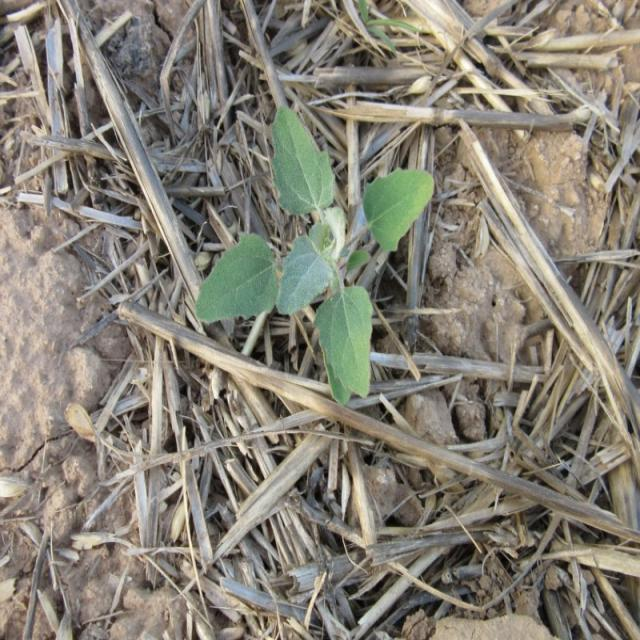ca: (196, 114, 434, 401)
